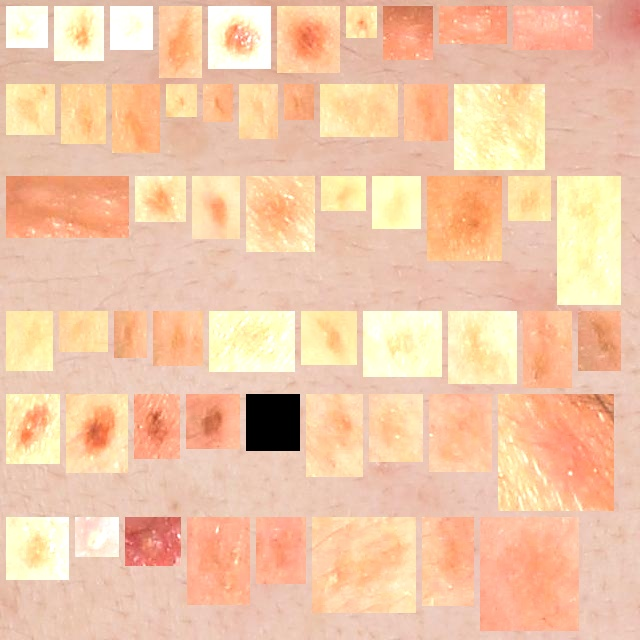hypertrophic_scar: (506, 402, 606, 503), (14, 184, 121, 230), (521, 14, 585, 42), (391, 14, 425, 52), (447, 14, 499, 36)
melasma: (488, 525, 571, 623), (320, 525, 408, 605), (565, 184, 613, 297), (462, 92, 537, 162), (435, 184, 494, 253), (195, 525, 242, 597), (254, 184, 307, 244), (217, 319, 287, 364), (371, 319, 434, 369), (456, 319, 509, 376), (437, 402, 484, 464), (314, 402, 355, 469), (430, 525, 466, 598), (328, 92, 390, 129), (531, 319, 564, 380), (377, 402, 415, 454), (264, 525, 298, 576), (120, 92, 152, 145), (309, 319, 349, 357), (167, 14, 194, 70), (200, 184, 232, 231), (14, 319, 45, 363), (62, 14, 96, 53), (161, 319, 195, 358), (69, 92, 98, 136), (380, 184, 413, 221), (586, 319, 613, 363), (14, 92, 47, 127), (412, 92, 440, 133), (143, 184, 178, 214), (247, 92, 270, 131), (67, 319, 100, 344), (516, 184, 543, 213), (118, 14, 145, 42), (14, 14, 40, 40), (329, 184, 358, 203), (122, 319, 139, 350), (211, 92, 225, 114), (292, 92, 306, 112), (174, 92, 189, 109)
nevus: (74, 402, 120, 465), (285, 14, 332, 65), (216, 14, 263, 61), (14, 402, 52, 456), (194, 402, 232, 441), (142, 402, 172, 451), (354, 14, 369, 30)
pustule: (133, 525, 173, 558), (83, 525, 111, 549)
